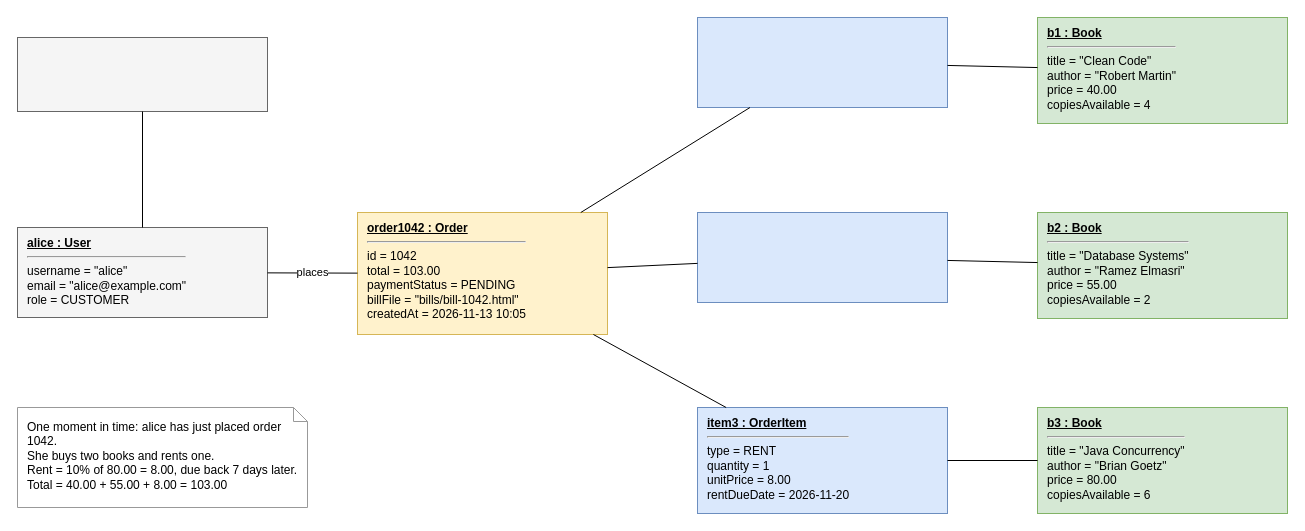
Image size: 1305x531. Some labels were removed from this diagram. Here are the shapes that lost their labels. From the top down, the box of each, then its label:
(16, 36, 268, 112): s1 : Session token = "9f2c…e1" createdAt = 2026-11-13 10:02
(696, 16, 948, 108): item1 : OrderItem type = BUY quantity = 1 unitPrice = 40.00
(696, 212, 948, 302): item2 : OrderItem type = BUY quantity = 1 unitPrice = 55.00
